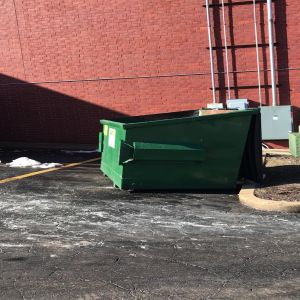Dumpster: (94, 107, 270, 193)
